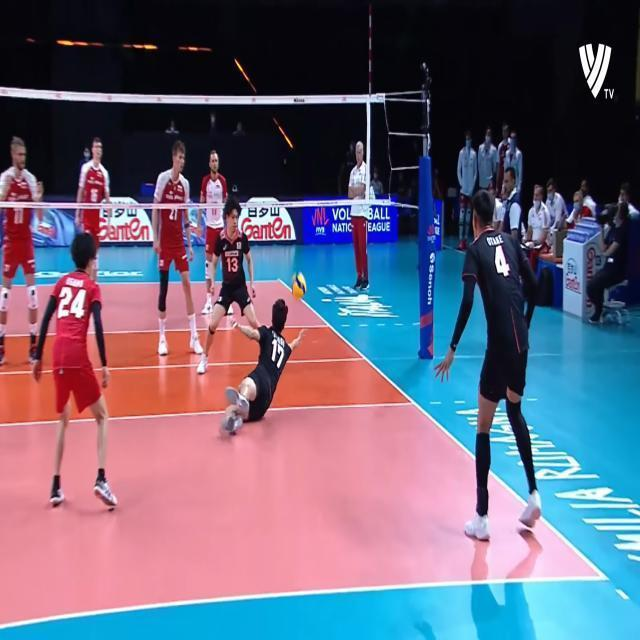volleyball: (291, 272, 306, 300)
